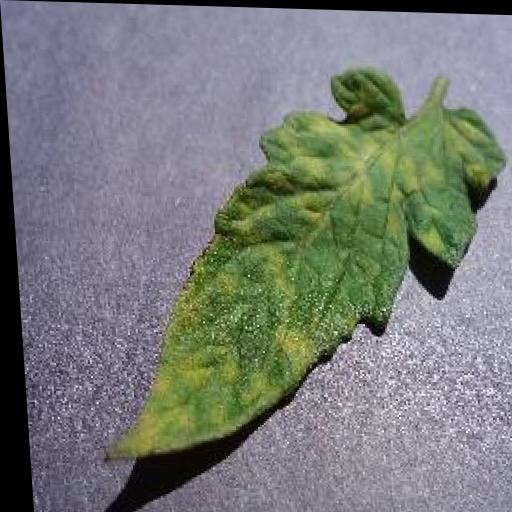Leaf Mold: (73, 57, 512, 473)
